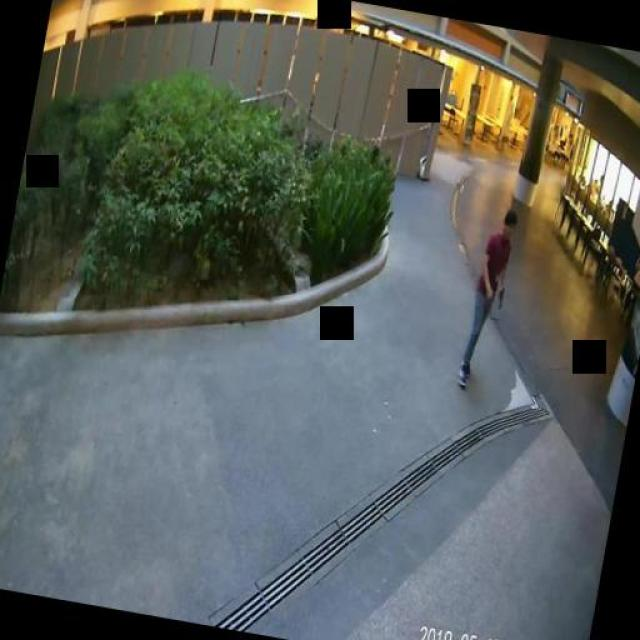gun: (494, 282, 504, 308)
